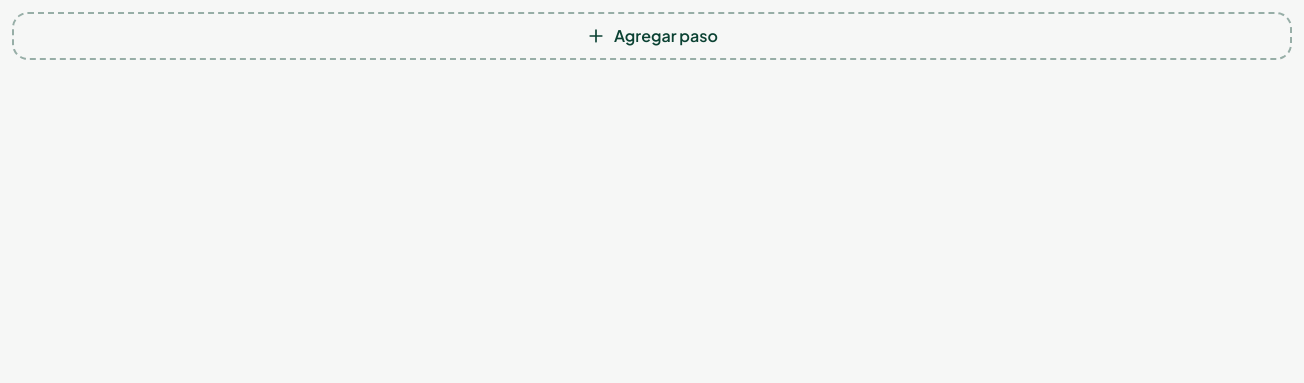
Test: adding a step › sends the description when there is one, and clears the form
The width and height of the screenshot is (1304, 383).
Click the button "Agregar paso" at {"x": 652, "y": 36}, box [12,12,1292,60]
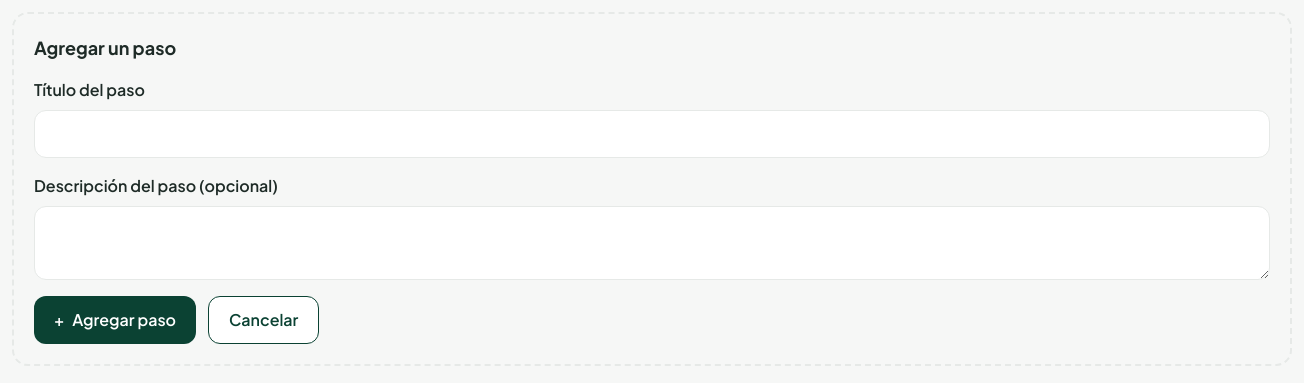
Type "Contar el efectivo" into the field labelled "Título del paso" at {"x": 652, "y": 134}, box [34,110,1270,158]
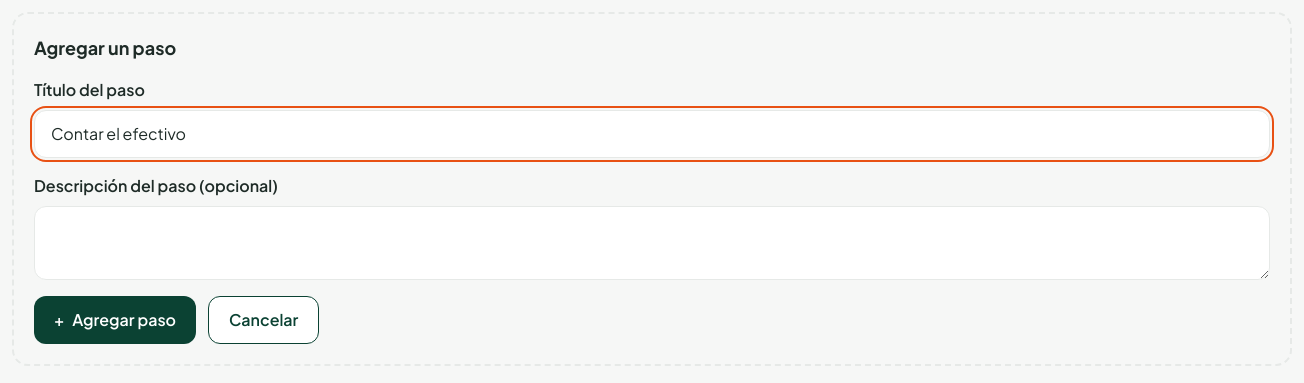
Type "Billetes y monedas" into the text box labelled "Descripción del paso (opcional)" at {"x": 652, "y": 243}, box [34,206,1270,280]
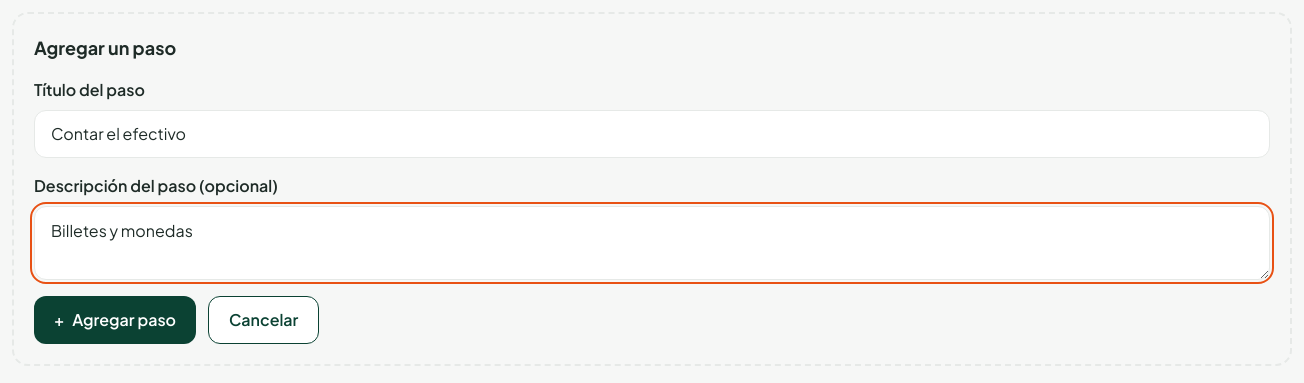
Click the button "+ Agregar paso" at {"x": 115, "y": 320}, box [34,296,196,344]
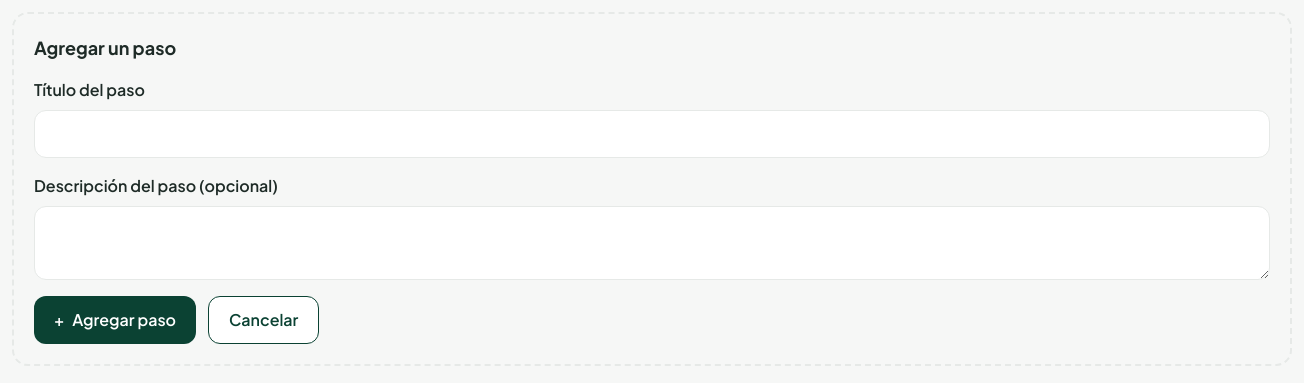
Expected: the field labelled "Título del paso" is empty, [34,110,1270,158]
Expected: the text box labelled "Descripción del paso (opcional)" is empty, [34,206,1270,280]
